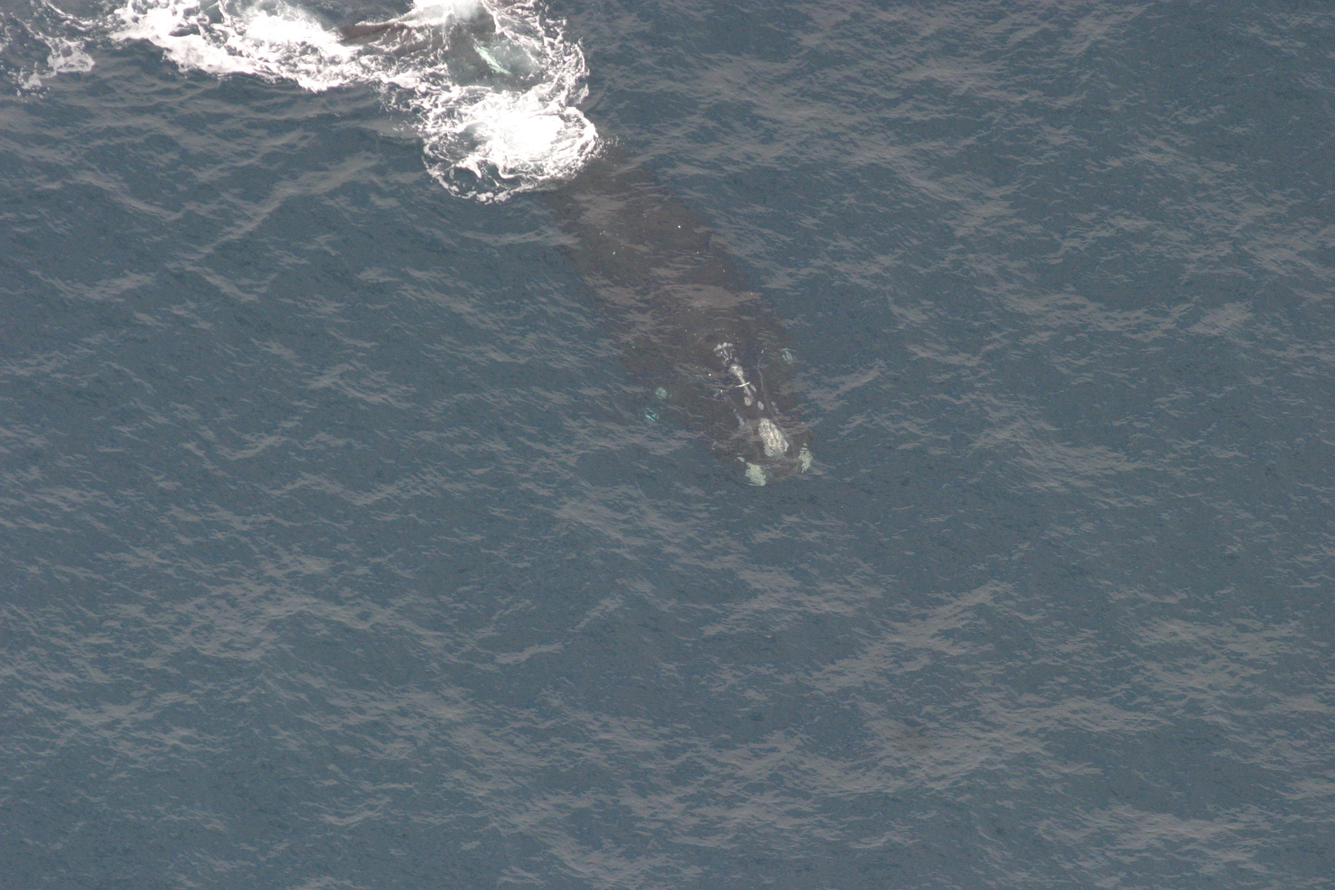whale: (462, 48, 825, 497)
